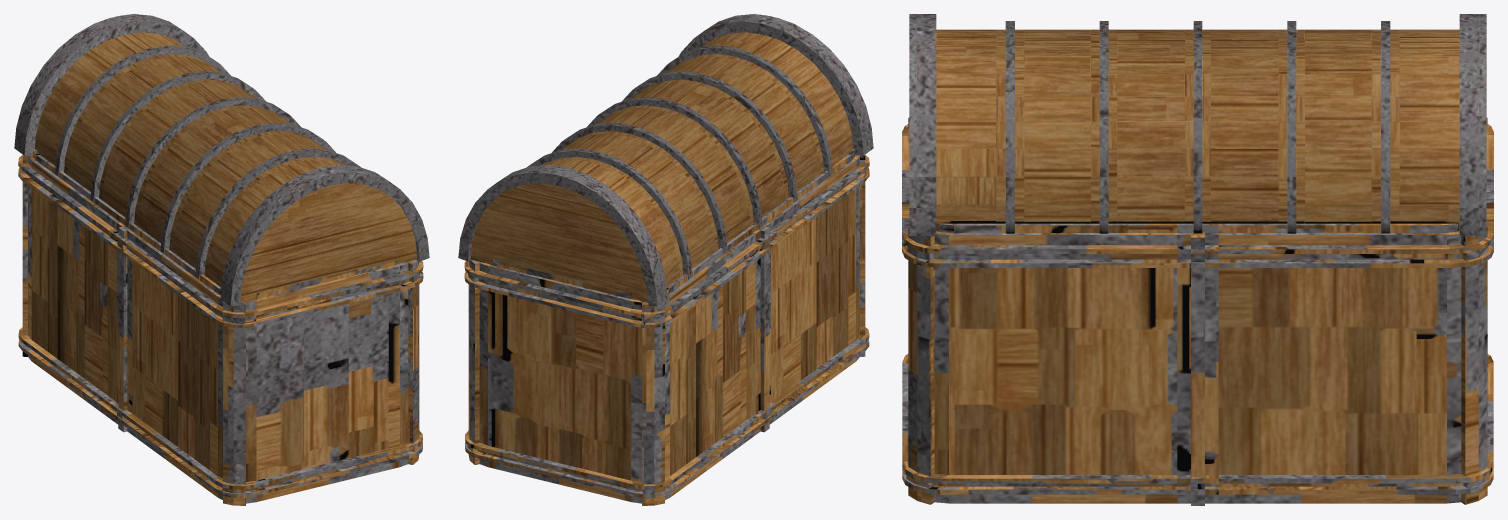
Rendered from Treasure.fbx.
3 views of the same model, side by side, from view 1: azimuth 30°, elevation 25°; view 2: azimuth 150°, elevation 25°; view 3: azimuth 270°, elevation 25° (orthographic). The views are drawn at different scales.
Visible parts, largest first — view 1: Cube, Cylinder; view 2: Cube, Cylinder; view 3: Cube, Cylinder.
Boxes of the visible parts, x1,y1,x2,y2 form: Cube: (18, 149, 423, 505); Cylinder: (14, 14, 429, 306); Cube: (464, 149, 869, 505); Cylinder: (458, 14, 873, 306); Cube: (902, 117, 1493, 505); Cylinder: (909, 14, 1486, 235).
Bounding box in the file's own units: 213 × 308 × 400.
Materials: 2 (2 with a texture image).
